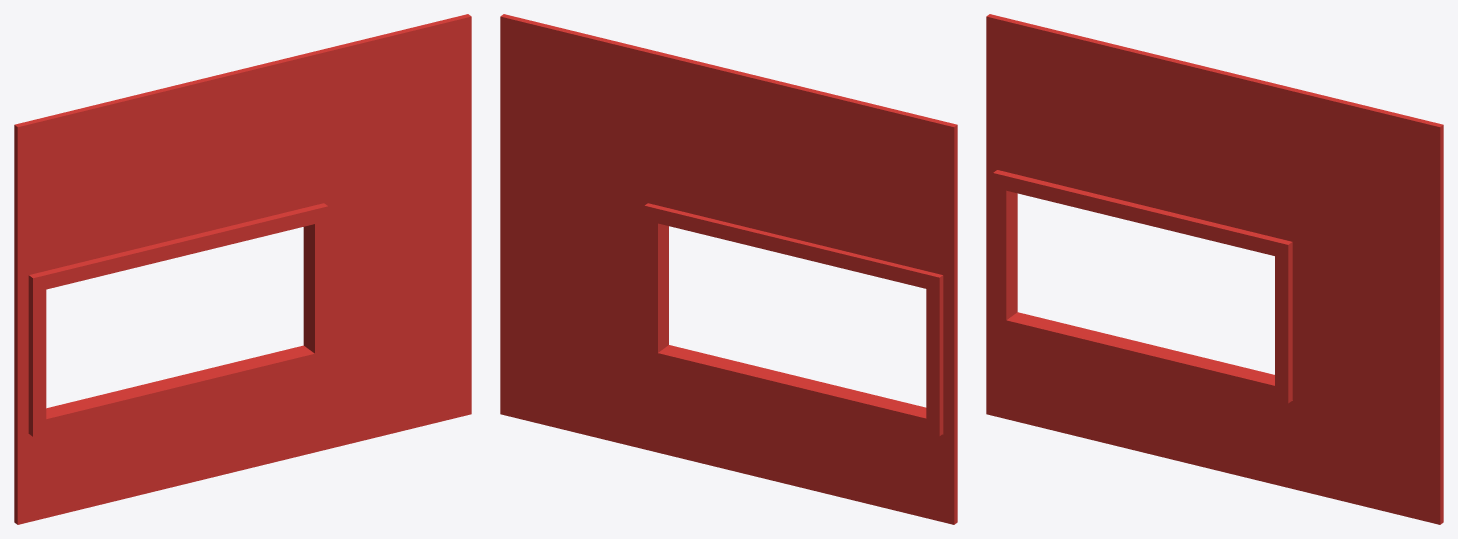
Rendered from WindowsWall.fbx.
3 renders of one model, left to right at view 1: azimuth 30°, elevation 25°; view 2: azimuth 150°, elevation 25°; view 3: azimuth 330°, elevation 25°, orthographic.
Visible parts, largest first — view 1: Wall_Window; view 2: Wall_Window; view 3: Wall_Window.
Part boxes in pixels (x1,y1,x2,y2): Wall_Window: (14, 14, 471, 524); Wall_Window: (500, 14, 957, 524); Wall_Window: (986, 14, 1443, 524).
Size of the model in its own units: 1184 by 992 by 50.69.
